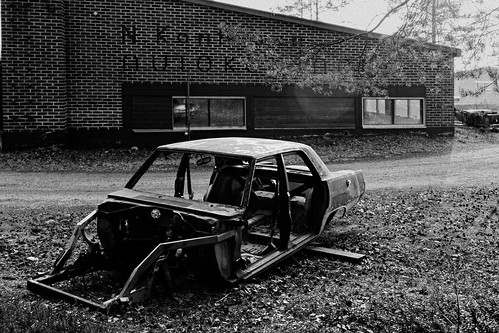building: (1, 1, 455, 136)
car: (24, 137, 392, 323)
